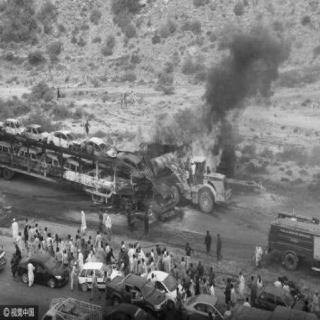Fire: (121, 106, 245, 202)
